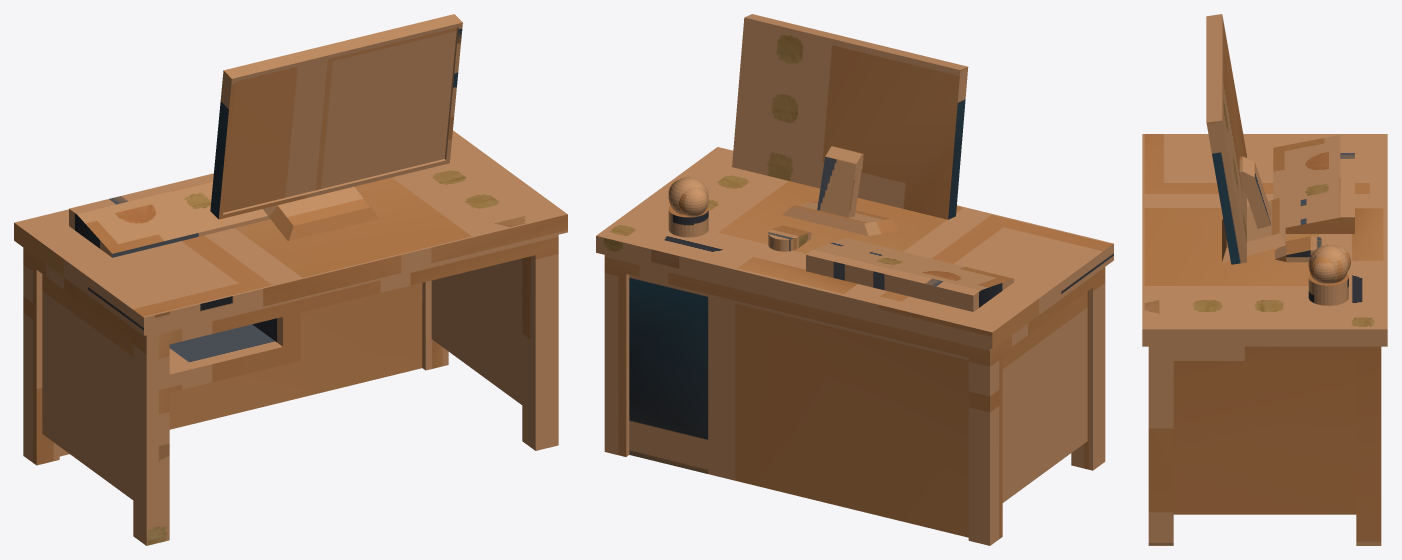
The model's file is mesh_prop-desk.fbx.
3 renders of one model, left to right at view 1: azimuth 30°, elevation 25°; view 2: azimuth 150°, elevation 25°; view 3: azimuth 270°, elevation 25°, orthographic. The views are drawn at different scales.
Visible parts, largest first — view 1: mesh_prop-desk; view 2: mesh_prop-desk; view 3: mesh_prop-desk.
Boxes of the visible parts, x1=… form: mesh_prop-desk: x1=14, y1=14, x2=567, y2=545; mesh_prop-desk: x1=596, y1=14, x2=1113, y2=545; mesh_prop-desk: x1=1142, y1=14, x2=1387, y2=545.
Size of the model in its own units: 1.14 by 1.08 by 0.6053.
Materials: 2 (2 with a texture image).
